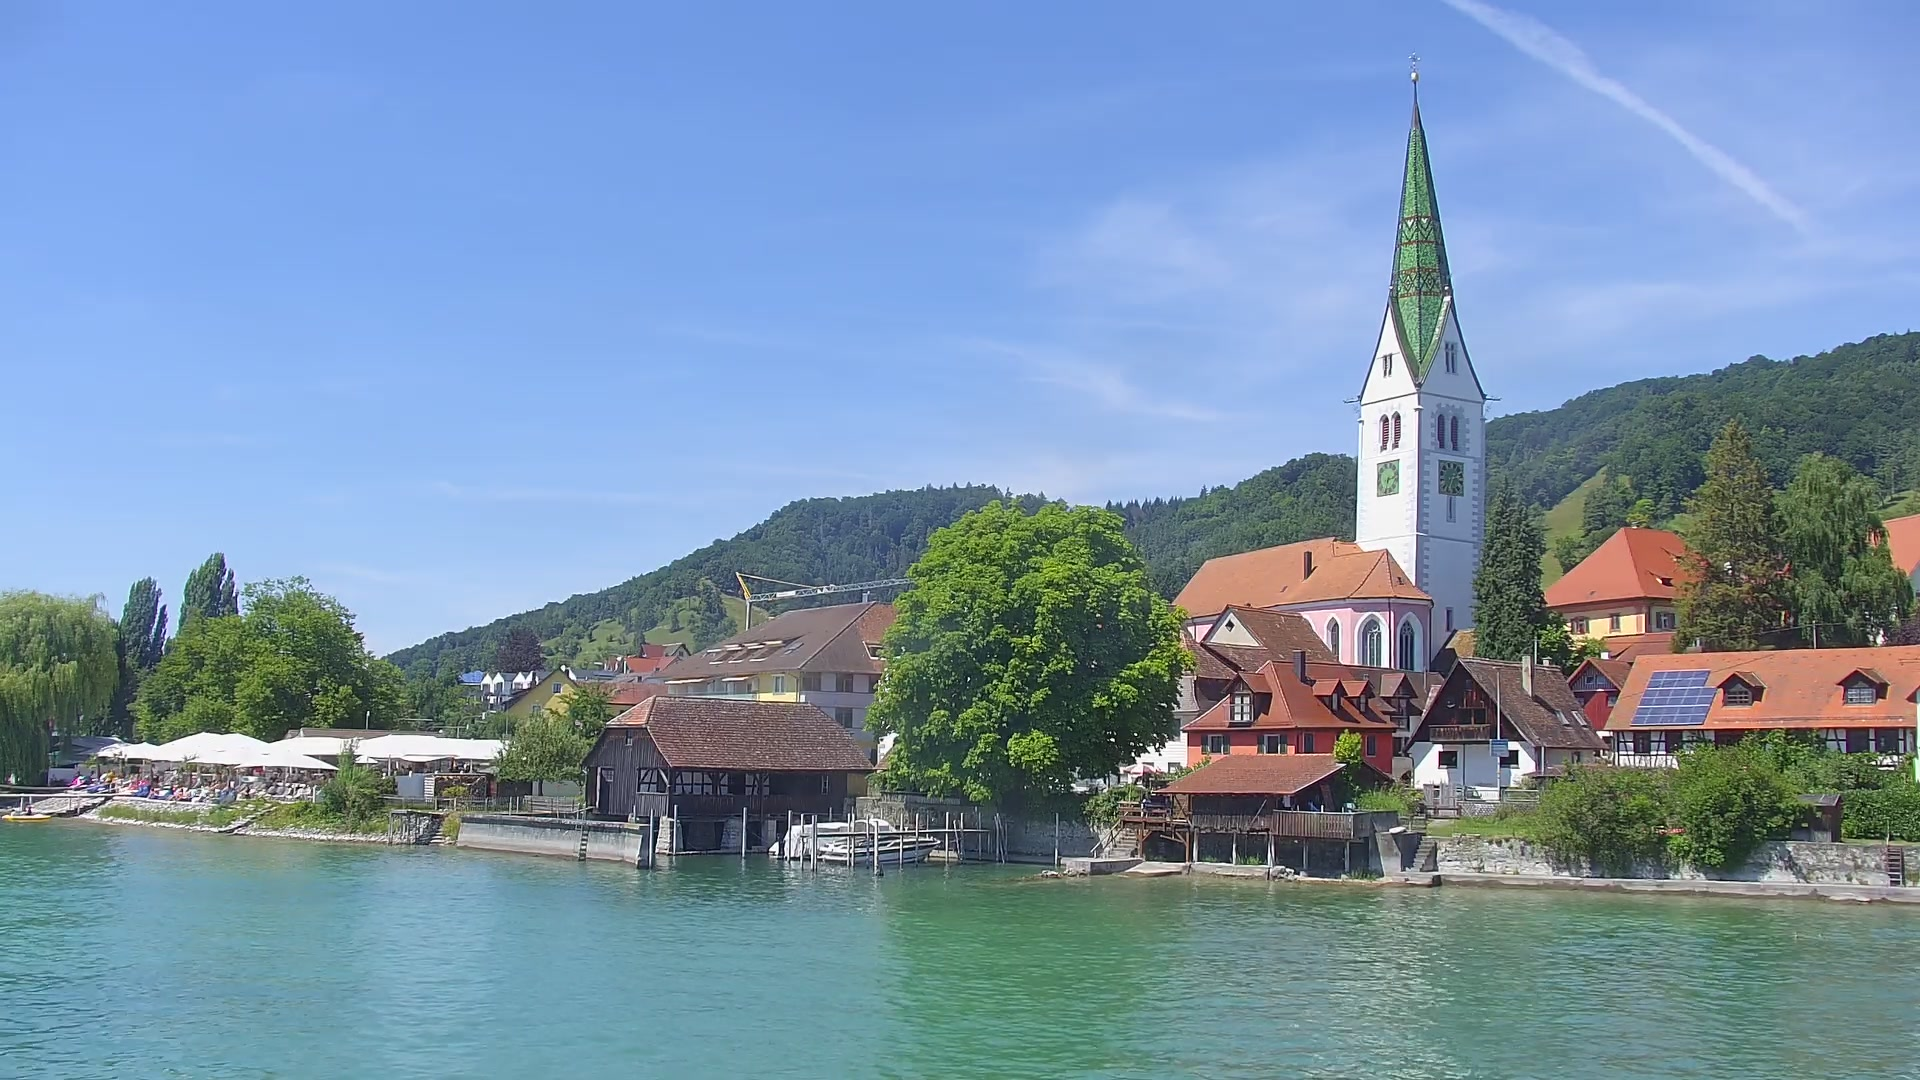sea: (765, 816, 899, 862), (818, 831, 942, 866)
